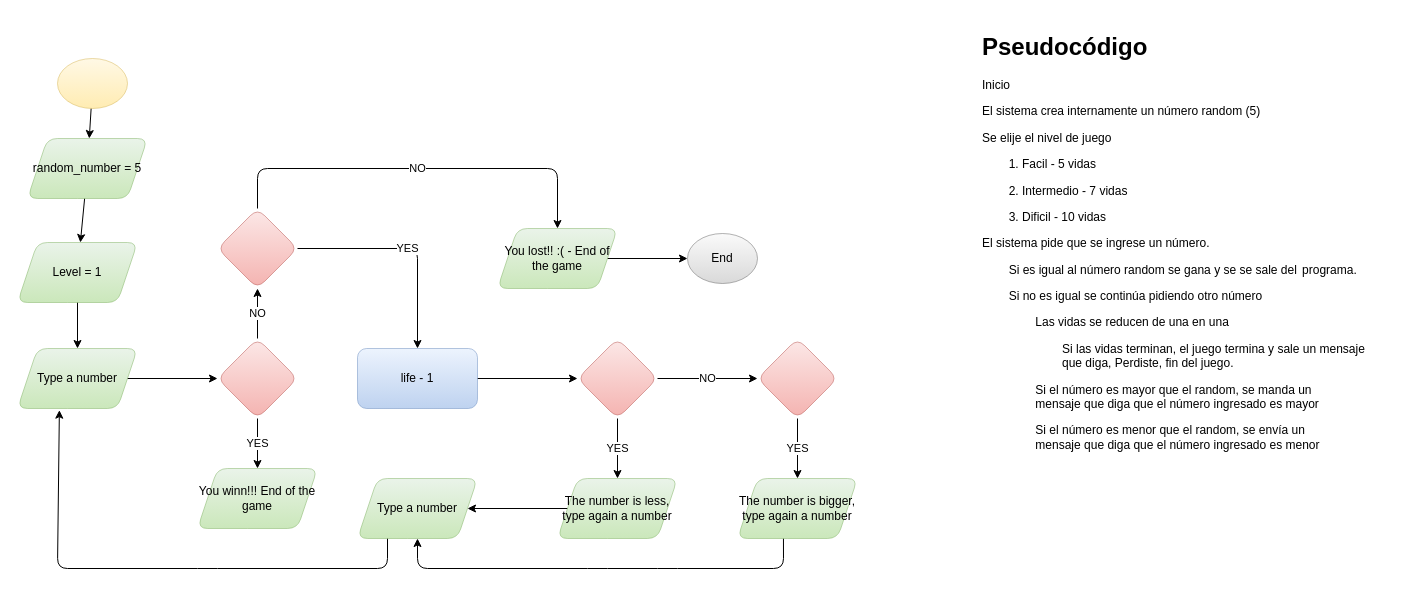
The diagram is 1405 pixels wide and 594 high, and some of its shapes have lost their labels. The centre of each missing label's shape, as x and y in pixels:
number < random_number: (617,378)
number == random_number: (257,378)
number > random_number: (797,378)
Start: (92,83)
while life <= 5 and > 0: (257,248)
